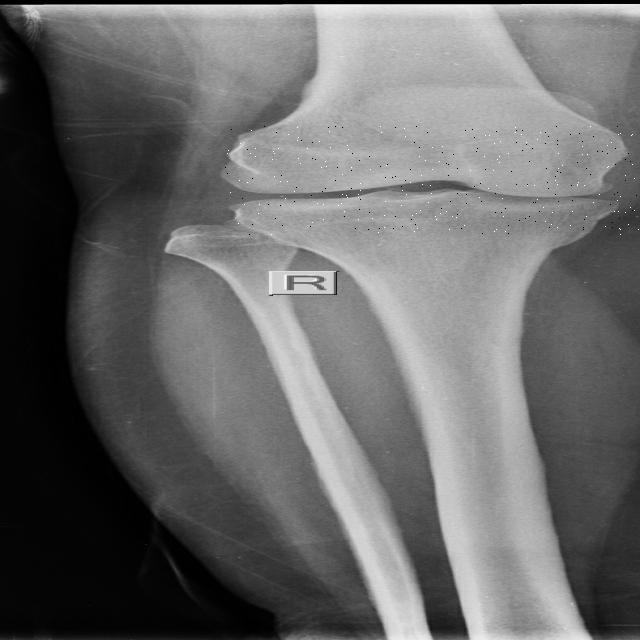normal: (224, 126, 640, 235)
